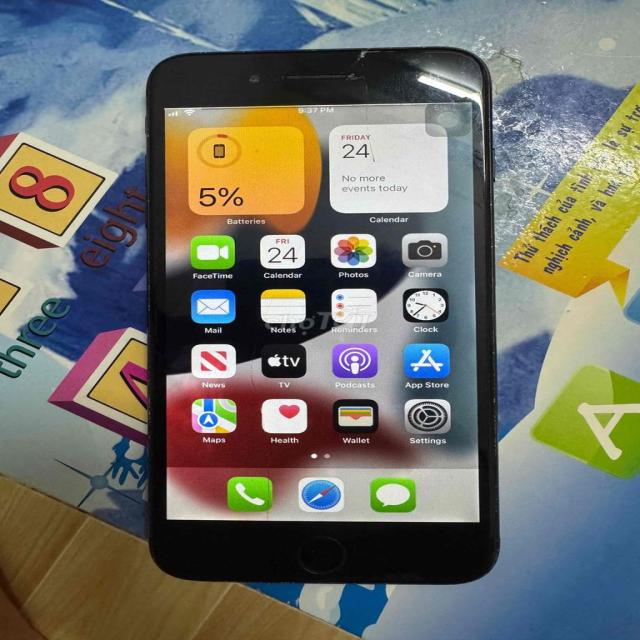gen_7_8: (147, 48, 498, 583)
